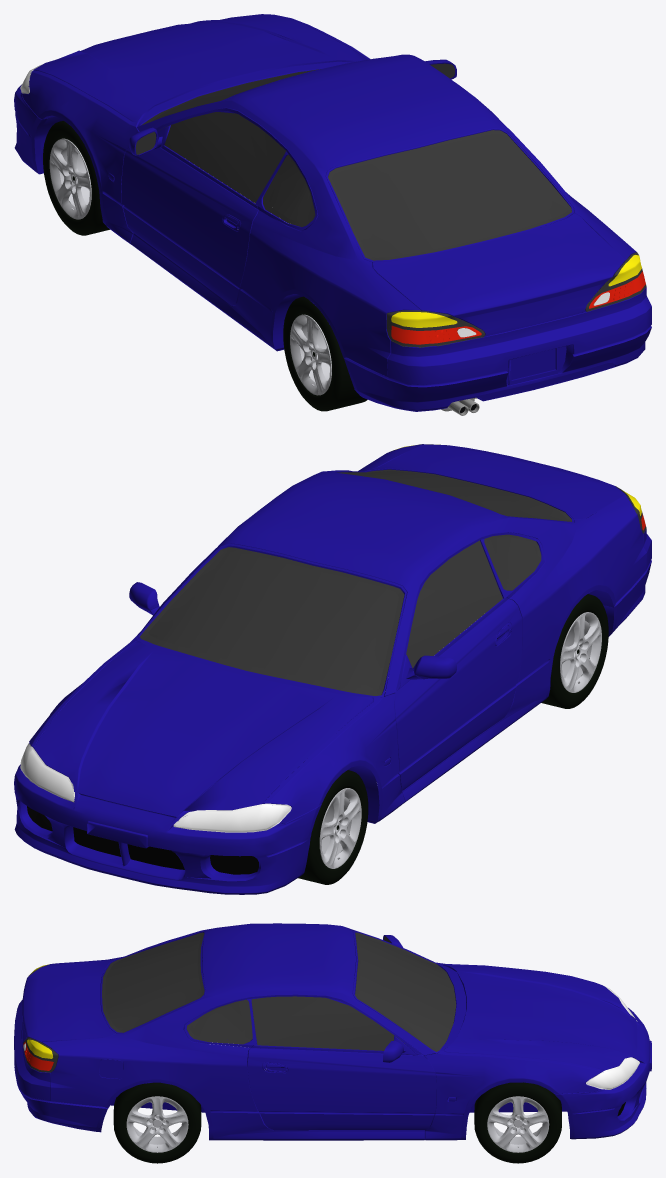
The model's file is SilviaS15.fbx.
The picture shows the model from 3 angles, top to bottom: view 1: azimuth 30°, elevation 25°; view 2: azimuth 150°, elevation 25°; view 3: azimuth 270°, elevation 25°; orthographic projection. The views are drawn at different scales.
Visible parts, largest first — view 1: Nissan Silvia S15, Rear Wheels, Rear Wheels.001; view 2: Nissan Silvia S15, Rear Wheels.001, Rear Wheels; view 3: Nissan Silvia S15, Rear Wheels.001, Rear Wheels.
Part boxes in pixels (left/top/right/bottom): Nissan Silvia S15: left=14, top=14, right=651, bottom=415; Rear Wheels: left=283, top=296, right=367, bottom=411; Rear Wheels.001: left=43, top=120, right=109, bottom=235; Nissan Silvia S15: left=14, top=444, right=651, bottom=894; Rear Wheels.001: left=298, top=770, right=368, bottom=884; Rear Wheels: left=541, top=594, right=608, bottom=708; Nissan Silvia S15: left=14, top=923, right=651, bottom=1140; Rear Wheels.001: left=474, top=1082, right=561, bottom=1163; Rear Wheels: left=113, top=1082, right=201, bottom=1163.
Size of the model in its own units: 762 by 491 by 1740.
Materials: 3 (1 with a texture image).
